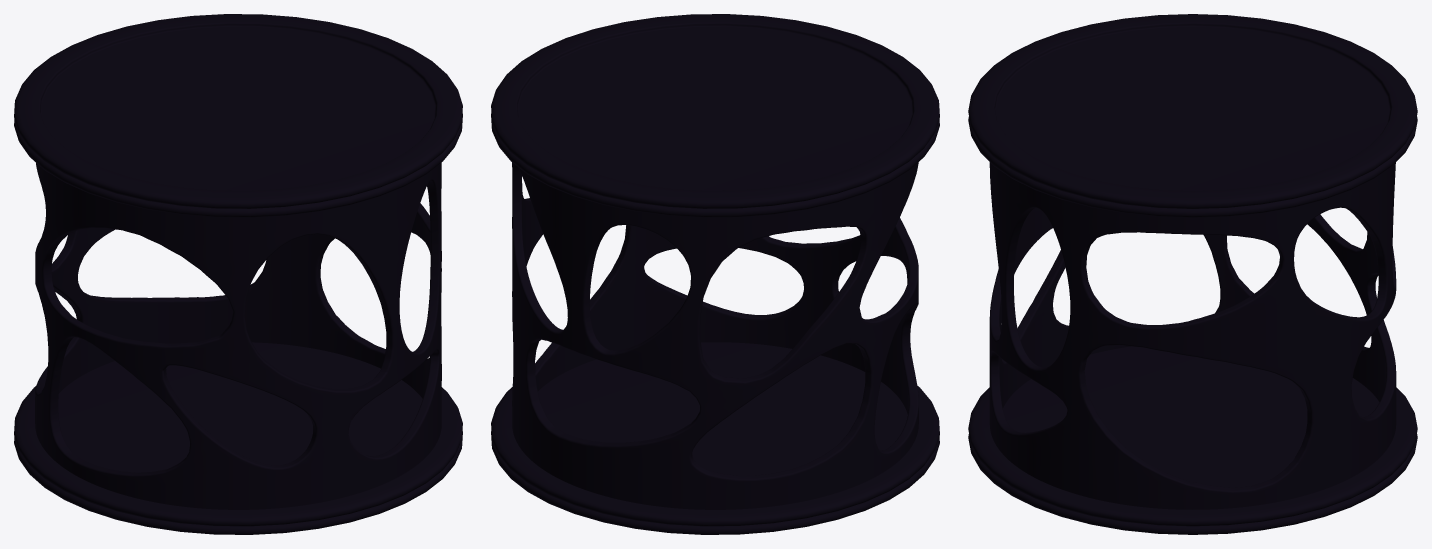
Rendered from abstractCoffeeTable.glb.
3 renders of one model, left to right at view 1: azimuth 30°, elevation 25°; view 2: azimuth 150°, elevation 25°; view 3: azimuth 270°, elevation 25°, orthographic.
Visible parts, largest first — view 1: polySurface2; view 2: polySurface2; view 3: polySurface2.
Boxes of the visible parts, x1=… form: polySurface2: x1=14, y1=14, x2=462, y2=534; polySurface2: x1=491, y1=14, x2=939, y2=534; polySurface2: x1=968, y1=14, x2=1417, y2=534.
Size of the model in its own units: 0.5186 by 0.4277 by 0.5186.
Materials: 1 (1 with a texture image).
